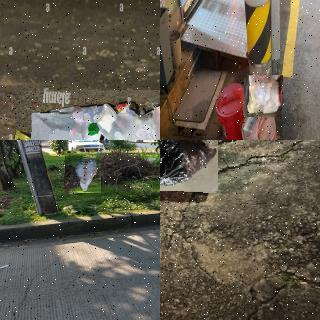Garbage: (13, 87, 160, 140), (160, 140, 218, 192), (243, 75, 283, 117), (65, 157, 101, 193)
